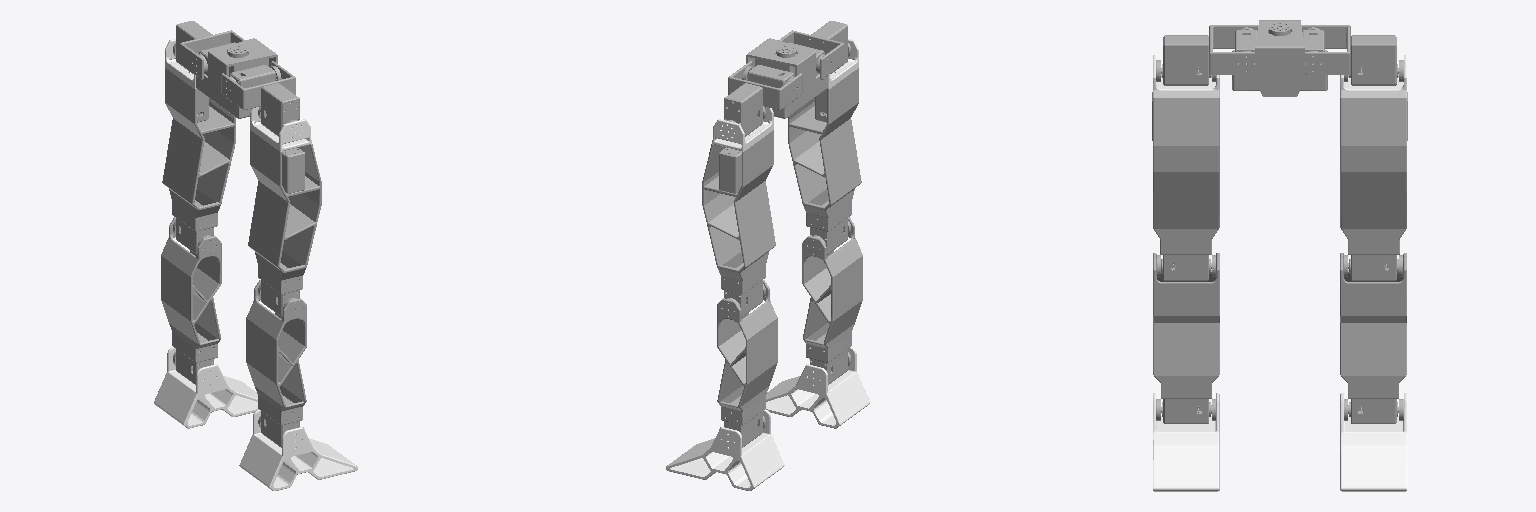
The robot description file, URDF, robot "link-assem-9":
<?xml version="1.0" encoding="utf-8"?>
<!-- This URDF was automatically created by SolidWorks to URDF Exporter! Originally created by [author] ([email redacted]) 
     Commit Version: 1.6.0-4-g7f85cfe  Build Version: 1.6.7995.38578
     For more information, please see http://wiki.ros.org/sw_urdf_exporter -->
<robot
  name="link-assem-9">
  <link
    name="base_link">
    <inertial>
      <origin
        xyz="0.0034441004163519 1.96778293617675E-09 0.0218837141013744"
        rpy="0 0 0" />
      <mass
        value="0.237250906812733" />
      <inertia
        ixx="5.16950099073705E-05"
        ixy="-1.31868058101076E-11"
        ixz="-5.23518630543773E-07"
        iyy="7.23717396600268E-05"
        iyz="1.59372604443091E-12"
        izz="5.50616207522159E-05" />
    </inertial>
    <visual>
      <origin
        xyz="0 0 0"
        rpy="0 0 0" />
      <geometry>
        <mesh
          filename="package://link-assem-9/meshes/base_link.STL" />
      </geometry>
      <material
        name="">
        <color
          rgba="0.752941176470588 0.752941176470588 0.752941176470588 1" />
      </material>
    </visual>
    <collision>
      <origin
        xyz="0 0 0"
        rpy="0 0 0" />
      <geometry>
        <mesh
          filename="package://link-assem-9/meshes/base_link.STL" />
      </geometry>
    </collision>
  </link>
  <link
    name="r-hip">
    <inertial>
      <origin
        xyz="0.000190024775223874 -0.0495637486274614 -0.00934399160182752"
        rpy="0 0 0" />
      <mass
        value="0.0791837053075434" />
      <inertia
        ixx="2.06387254680631E-05"
        ixy="2.17092430682936E-08"
        ixz="-7.29403398808404E-09"
        iyy="1.59137402547795E-05"
        iyz="-4.81494985883319E-08"
        izz="1.73100151466543E-05" />
    </inertial>
    <visual>
      <origin
        xyz="0 0 0"
        rpy="0 0 0" />
      <geometry>
        <mesh
          filename="package://link-assem-9/meshes/r-hip.STL" />
      </geometry>
      <material
        name="">
        <color
          rgba="0.752941176470588 0.752941176470588 0.752941176470588 1" />
      </material>
    </visual>
    <collision>
      <origin
        xyz="0 0 0"
        rpy="0 0 0" />
      <geometry>
        <mesh
          filename="package://link-assem-9/meshes/r-hip.STL" />
      </geometry>
    </collision>
  </link>
  <joint
    name="r-hip-roll"
    type="revolute">
    <origin
      xyz="0 -0.028821 0.03"
      rpy="0 0 0" />
    <parent
      link="base_link" />
    <child
      link="r-hip" />
    <axis
      xyz="1 0 0" />
    <limit
      lower="-1.5"
      upper="1.5"
      effort="20"
      velocity="4" />
  </joint>
  <link
    name="r-top-thigh">
    <inertial>
      <origin
        xyz="0.000445812258705942 -0.0290000576187259 -0.0106159904309816"
        rpy="0 0 0" />
      <mass
        value="0.00947165965448311" />
      <inertia
        ixx="4.57200060436464E-06"
        ixy="-3.81239780286315E-12"
        ixz="2.11351498581952E-08"
        iyy="1.6006403920872E-06"
        iyz="-2.74134587890916E-12"
        izz="5.11015775864877E-06" />
    </inertial>
    <visual>
      <origin
        xyz="0 0 0"
        rpy="0 0 0" />
      <geometry>
        <mesh
          filename="package://link-assem-9/meshes/r-top-thigh.STL" />
      </geometry>
      <material
        name="">
        <color
          rgba="1 1 1 1" />
      </material>
    </visual>
    <collision>
      <origin
        xyz="0 0 0"
        rpy="0 0 0" />
      <geometry>
        <mesh
          filename="package://link-assem-9/meshes/r-top-thigh.STL" />
      </geometry>
    </collision>
  </link>
  <joint
    name="r-top-thigh-pitch"
    type="revolute">
    <origin
      xyz="0.0002 -0.0237 -0.02"
      rpy="0 0 0" />
    <parent
      link="r-hip" />
    <child
      link="r-top-thigh" />
    <axis
      xyz="0 1 0" />
    <limit
      lower="-1.5"
      upper="1.5"
      effort="20"
      velocity="4" />
  </joint>
  <link
    name="r-bottom-thigh">
    <inertial>
      <origin
        xyz="0.000773627526293806 -0.00364717170628413 -0.0895721927977485"
        rpy="0 0 0" />
      <mass
        value="0.190813827342818" />
      <inertia
        ixx="0.000132584004173505"
        ixy="-3.70190497082405E-10"
        ixz="-4.35964353977653E-06"
        iyy="0.000116773314902949"
        iyz="-6.68209243652627E-09"
        izz="4.91244169775918E-05" />
    </inertial>
    <visual>
      <origin
        xyz="0 0 0"
        rpy="0 0 0" />
      <geometry>
        <mesh
          filename="package://link-assem-9/meshes/r-bottom-thigh.STL" />
      </geometry>
      <material
        name="">
        <color
          rgba="0.752941176470588 0.752941176470588 0.752941176470588 1" />
      </material>
    </visual>
    <collision>
      <origin
        xyz="0 0 0"
        rpy="0 0 0" />
      <geometry>
        <mesh
          filename="package://link-assem-9/meshes/r-bottom-thigh.STL" />
      </geometry>
    </collision>
  </link>
  <joint
    name="r-bottom-thigh-yaw"
    type="revolute">
    <origin
      xyz="0.00042378 -0.029 -0.01687"
      rpy="0 0 0" />
    <parent
      link="r-top-thigh" />
    <child
      link="r-bottom-thigh" />
    <axis
      xyz="0 0 1" />
    <limit
      lower="-1.5"
      upper="1.5"
      effort="20"
      velocity="4" />
  </joint>
  <link
    name="r-calf">
    <inertial>
      <origin
        xyz="-0.00141273141447035 0.000145008546621375 -0.105463468166544"
        rpy="0 0 0" />
      <mass
        value="0.108408566618086" />
      <inertia
        ixx="6.92118658157954E-05"
        ixy="-4.83878797136032E-10"
        ixz="7.94450005334356E-07"
        iyy="5.58171249083921E-05"
        iyz="-3.37721210447501E-08"
        izz="2.84341367016219E-05" />
    </inertial>
    <visual>
      <origin
        xyz="0 0 0"
        rpy="0 0 0" />
      <geometry>
        <mesh
          filename="package://link-assem-9/meshes/r-calf.STL" />
      </geometry>
      <material
        name="">
        <color
          rgba="0.752941176470588 0.752941176470588 0.752941176470588 1" />
      </material>
    </visual>
    <collision>
      <origin
        xyz="0 0 0"
        rpy="0 0 0" />
      <geometry>
        <mesh
          filename="package://link-assem-9/meshes/r-calf.STL" />
      </geometry>
    </collision>
  </link>
  <joint
    name="r-calf-pitch"
    type="revolute">
    <origin
      xyz="-0.00038716 0 -0.17027"
      rpy="0 0 0" />
    <parent
      link="r-bottom-thigh" />
    <child
      link="r-calf" />
    <axis
      xyz="0 1 0" />
    <limit
      lower="-1.5"
      upper="1.5"
      effort="20"
      velocity="4" />
  </joint>
  <link
    name="r-foot">
    <inertial>
      <origin
        xyz="0.0138820331334254 -5.21234747030697E-09 -0.0298192855188085"
        rpy="0 0 0" />
      <mass
        value="0.0415129691156554" />
      <inertia
        ixx="2.12378848438927E-05"
        ixy="1.31021153949287E-11"
        ixz="4.91742304987885E-06"
        iyy="3.66208915279162E-05"
        iyz="-1.53579685832343E-12"
        izz="4.16734390030259E-05" />
    </inertial>
    <visual>
      <origin
        xyz="0 0 0"
        rpy="0 0 0" />
      <geometry>
        <mesh
          filename="package://link-assem-9/meshes/r-foot.STL" />
      </geometry>
      <material
        name="">
        <color
          rgba="1 1 1 1" />
      </material>
    </visual>
    <collision>
      <origin
        xyz="0 0 0"
        rpy="0 0 0" />
      <geometry>
        <mesh
          filename="package://link-assem-9/meshes/r-foot.STL" />
      </geometry>
    </collision>
  </link>
  <joint
    name="r-foot-pitch"
    type="revolute">
    <origin
      xyz="0.00011939 0 -0.13771"
      rpy="0 0 0" />
    <parent
      link="r-calf" />
    <child
      link="r-foot" />
    <axis
      xyz="0 1 0" />
    <limit
      lower="-1.5"
      upper="1.5"
      effort="20"
      velocity="4" />
  </joint>
  <link
    name="l-hip">
    <inertial>
      <origin
        xyz="0.000190024336073364 0.0495637485533545 -0.00934399507163446"
        rpy="0 0 0" />
      <mass
        value="0.0791837056110943" />
      <inertia
        ixx="2.0638739070147E-05"
        ixy="-2.1709133013792E-08"
        ixz="-7.31038850748615E-09"
        iyy="1.59137534074891E-05"
        iyz="4.81489956863052E-08"
        izz="1.73100146978694E-05" />
    </inertial>
    <visual>
      <origin
        xyz="0 0 0"
        rpy="0 0 0" />
      <geometry>
        <mesh
          filename="package://link-assem-9/meshes/l-hip.STL" />
      </geometry>
      <material
        name="">
        <color
          rgba="0.752941176470588 0.752941176470588 0.752941176470588 1" />
      </material>
    </visual>
    <collision>
      <origin
        xyz="0 0 0"
        rpy="0 0 0" />
      <geometry>
        <mesh
          filename="package://link-assem-9/meshes/l-hip.STL" />
      </geometry>
    </collision>
  </link>
  <joint
    name="l-hip-roll"
    type="revolute">
    <origin
      xyz="0 0.028821 0.03"
      rpy="0 0 0" />
    <parent
      link="base_link" />
    <child
      link="l-hip" />
    <axis
      xyz="1 0 0" />
    <limit
      lower="-1.5"
      upper="1.5"
      effort="20"
      velocity="4" />
  </joint>
  <link
    name="l-top-thigh">
    <inertial>
      <origin
        xyz="0.000445804758728803 0.0290001237858815 -0.0106160244579593"
        rpy="0 0 0" />
      <mass
        value="0.00947160337263152" />
      <inertia
        ixx="4.57196750403069E-06"
        ixy="5.67719759156287E-12"
        ixz="2.1134485541151E-08"
        iyy="1.60062750633552E-06"
        iyz="-3.49536380622118E-12"
        izz="5.11013171011067E-06" />
    </inertial>
    <visual>
      <origin
        xyz="0 0 0"
        rpy="0 0 0" />
      <geometry>
        <mesh
          filename="package://link-assem-9/meshes/l-top-thigh.STL" />
      </geometry>
      <material
        name="">
        <color
          rgba="1 1 1 1" />
      </material>
    </visual>
    <collision>
      <origin
        xyz="0 0 0"
        rpy="0 0 0" />
      <geometry>
        <mesh
          filename="package://link-assem-9/meshes/l-top-thigh.STL" />
      </geometry>
    </collision>
  </link>
  <joint
    name="l-top-thigh-pitch"
    type="revolute">
    <origin
      xyz="0.0002 0.0237 -0.02"
      rpy="0 0 0" />
    <parent
      link="l-hip" />
    <child
      link="l-top-thigh" />
    <axis
      xyz="0 1 0" />
    <limit
      lower="-1.5"
      upper="1.5"
      effort="20"
      velocity="4" />
  </joint>
  <link
    name="l-bottom-thigh">
    <inertial>
      <origin
        xyz="0.00077362404358223 0.00364717146470198 -0.0895722109287836"
        rpy="0 0 0" />
      <mass
        value="0.190813807134144" />
      <inertia
        ixx="0.000132584087343989"
        ixy="3.7333453830747E-10"
        ixz="-4.3596331911738E-06"
        iyy="0.000116773404488362"
        iyz="6.69333347962462E-09"
        izz="4.91244082881182E-05" />
    </inertial>
    <visual>
      <origin
        xyz="0 0 0"
        rpy="0 0 0" />
      <geometry>
        <mesh
          filename="package://link-assem-9/meshes/l-bottom-thigh.STL" />
      </geometry>
      <material
        name="">
        <color
          rgba="0.752941176470588 0.752941176470588 0.752941176470588 1" />
      </material>
    </visual>
    <collision>
      <origin
        xyz="0 0 0"
        rpy="0 0 0" />
      <geometry>
        <mesh
          filename="package://link-assem-9/meshes/l-bottom-thigh.STL" />
      </geometry>
    </collision>
  </link>
  <joint
    name="l-bottom-thigh-yaw"
    type="revolute">
    <origin
      xyz="0.00042378 0.029 -0.01687"
      rpy="0 0 0" />
    <parent
      link="l-top-thigh" />
    <child
      link="l-bottom-thigh" />
    <axis
      xyz="0 0 1" />
    <limit
      lower="-1.5"
      upper="1.5"
      effort="20"
      velocity="4" />
  </joint>
  <link
    name="l-calf">
    <inertial>
      <origin
        xyz="-0.00141274719470742 -0.000144985747671064 -0.105463498507332"
        rpy="0 0 0" />
      <mass
        value="0.108408454160721" />
      <inertia
        ixx="6.92117652682259E-05"
        ixy="4.89035286501889E-10"
        ixz="7.94355016377408E-07"
        iyy="5.58170440673645E-05"
        iyz="3.38616099312321E-08"
        izz="2.84340591067331E-05" />
    </inertial>
    <visual>
      <origin
        xyz="0 0 0"
        rpy="0 0 0" />
      <geometry>
        <mesh
          filename="package://link-assem-9/meshes/l-calf.STL" />
      </geometry>
      <material
        name="">
        <color
          rgba="0.752941176470588 0.752941176470588 0.752941176470588 1" />
      </material>
    </visual>
    <collision>
      <origin
        xyz="0 0 0"
        rpy="0 0 0" />
      <geometry>
        <mesh
          filename="package://link-assem-9/meshes/l-calf.STL" />
      </geometry>
    </collision>
  </link>
  <joint
    name="l-calf-pitch"
    type="revolute">
    <origin
      xyz="-0.00038716 0 -0.17027"
      rpy="0 0 0" />
    <parent
      link="l-bottom-thigh" />
    <child
      link="l-calf" />
    <axis
      xyz="0 1 0" />
    <limit
      lower="-1.5"
      upper="1.5"
      effort="20"
      velocity="4" />
  </joint>
  <link
    name="l-foot">
    <inertial>
      <origin
        xyz="0.0138820315126328 2.75325297283135E-09 -0.0298192835292874"
        rpy="0 0 0" />
      <mass
        value="0.041512963882286" />
      <inertia
        ixx="2.12378835503601E-05"
        ixy="-1.54457702713298E-11"
        ixz="4.91742378134395E-06"
        iyy="3.66208923481747E-05"
        iyz="6.59683643836026E-12"
        izz="4.16734331070023E-05" />
    </inertial>
    <visual>
      <origin
        xyz="0 0 0"
        rpy="0 0 0" />
      <geometry>
        <mesh
          filename="package://link-assem-9/meshes/l-foot.STL" />
      </geometry>
      <material
        name="">
        <color
          rgba="1 1 1 1" />
      </material>
    </visual>
    <collision>
      <origin
        xyz="0 0 0"
        rpy="0 0 0" />
      <geometry>
        <mesh
          filename="package://link-assem-9/meshes/l-foot.STL" />
      </geometry>
    </collision>
  </link>
  <joint
    name="l-foot-pitch"
    type="revolute">
    <origin
      xyz="0.00011939 0 -0.13771"
      rpy="0 0 0" />
    <parent
      link="l-calf" />
    <child
      link="l-foot" />
    <axis
      xyz="0 1 0" />
    <limit
      lower="-1.5"
      upper="1.5"
      effort="20"
      velocity="4" />
  </joint>
</robot>

--- Facts derived from the render (not from the file) ---
3 views of the same robot in one strip: view 1: azimuth 30°, elevation 25°; view 2: azimuth 150°, elevation 25°; view 3: azimuth 270°, elevation 25° (orthographic).
Robot: link-assem-9 — 11 links, 10 joints (10 revolute); root link base_link; default pose: every joint at zero.
Links seen in each view (by area): view 1: r-bottom-thigh, l-bottom-thigh, r-calf, l-calf, r-foot, l-foot, base_link, r-hip, l-hip, r-top-thigh, l-top-thigh; view 2: l-bottom-thigh, r-bottom-thigh, l-calf, r-calf, l-foot, r-foot, base_link, l-hip, r-hip, l-top-thigh, r-top-thigh; view 3: r-bottom-thigh, l-bottom-thigh, r-calf, l-calf, base_link, r-foot, l-foot, r-hip, l-hip, r-top-thigh, l-top-thigh.
Boxes of the visible links, x1,y1,x2,y2 form: r-bottom-thigh: [248, 130, 321, 317]; l-bottom-thigh: [162, 68, 235, 254]; r-calf: [246, 280, 306, 447]; l-calf: [161, 217, 221, 384]; r-foot: [239, 409, 357, 490]; l-foot: [154, 347, 257, 428]; base_link: [196, 38, 281, 118]; r-hip: [221, 61, 299, 136]; l-hip: [173, 21, 245, 79]; r-top-thigh: [250, 107, 311, 151]; l-top-thigh: [165, 39, 196, 88]; l-bottom-thigh: [702, 130, 775, 317]; r-bottom-thigh: [788, 68, 861, 254]; l-calf: [717, 280, 777, 447]; r-calf: [802, 217, 862, 384]; l-foot: [666, 409, 784, 490]; r-foot: [766, 347, 869, 428]; base_link: [742, 38, 827, 118]; l-hip: [724, 61, 802, 136]; r-hip: [778, 21, 850, 79]; l-top-thigh: [712, 107, 773, 151]; r-top-thigh: [827, 39, 858, 88]; r-bottom-thigh: [1152, 92, 1219, 280]; l-bottom-thigh: [1340, 92, 1407, 280]; r-calf: [1153, 253, 1219, 423]; l-calf: [1340, 253, 1406, 423]; base_link: [1232, 20, 1327, 96]; r-foot: [1153, 393, 1219, 491]; l-foot: [1340, 393, 1406, 491]; r-hip: [1156, 25, 1257, 85]; l-hip: [1302, 25, 1403, 85]; r-top-thigh: [1153, 55, 1219, 97]; l-top-thigh: [1340, 55, 1406, 97].
Bounding box of the posed robot: 0.098 × 0.223 × 0.4149 m (x, y, z).
Meshes: 11 distinct files referenced, 11 mesh visuals loaded (11 binary STL).